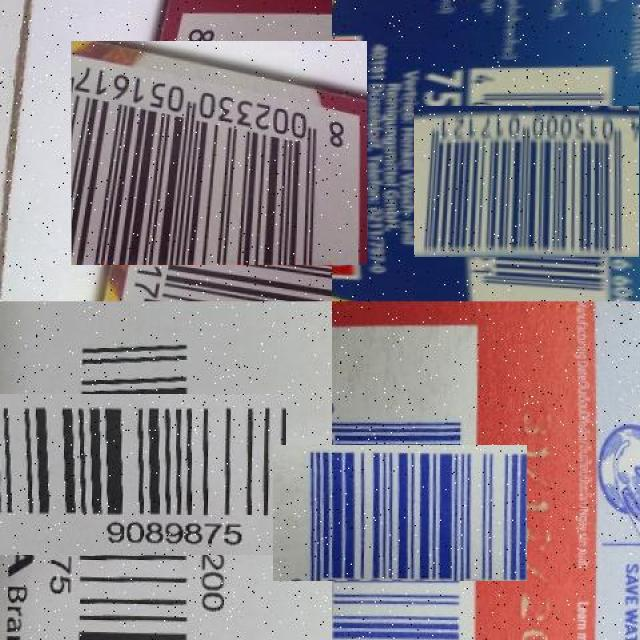Barcode: (89, 23, 350, 284), (0, 351, 243, 598), (302, 415, 498, 610), (436, 84, 631, 280)
